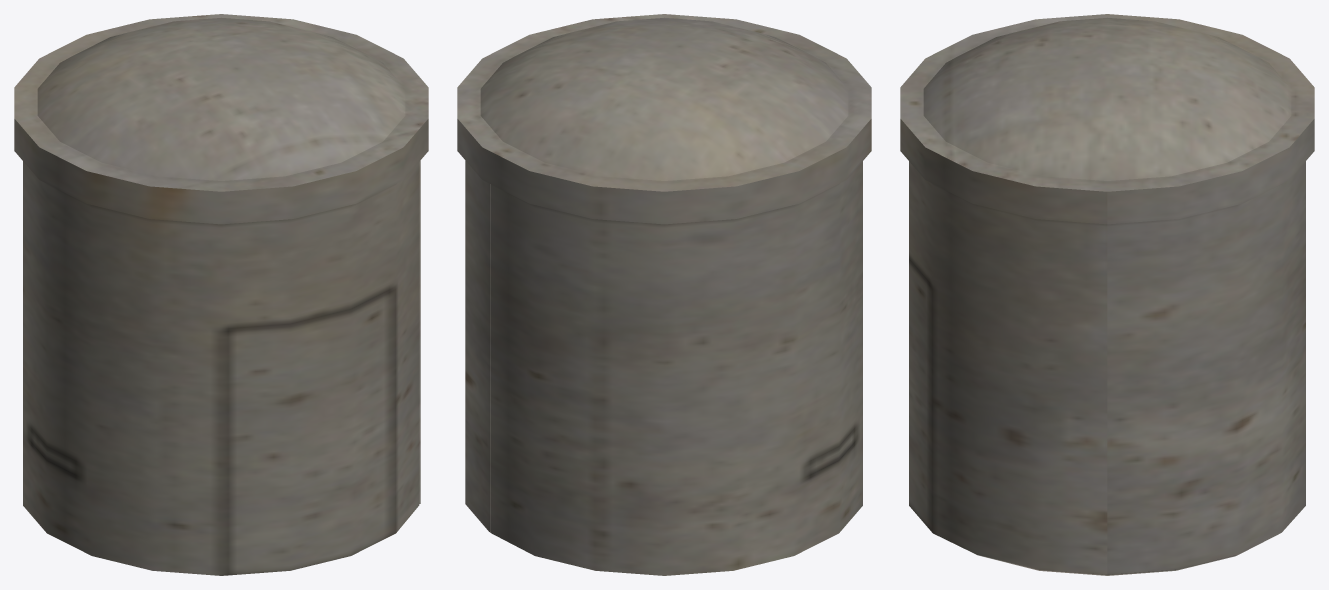
File: NC casing.fbx
3 renders of one model, left to right at view 1: azimuth 30°, elevation 25°; view 2: azimuth 150°, elevation 25°; view 3: azimuth 270°, elevation 25°, orthographic.
Visible parts, largest first — view 1: Static, Opening; view 2: Static, Opening; view 3: Opening, Static.
Boxes of the visible parts, x1=… form: Static: x1=14, y1=14, x2=428, y2=575; Opening: x1=419, y1=160, x2=420, y2=503; Static: x1=457, y1=14, x2=871, y2=575; Opening: x1=465, y1=160, x2=490, y2=531; Opening: x1=978, y1=184, x2=1282, y2=574; Static: x1=900, y1=14, x2=1314, y2=575.
Bounding box in the file's own units: 1545 × 1764 × 1522.
Materials: 1 (1 with a texture image).
